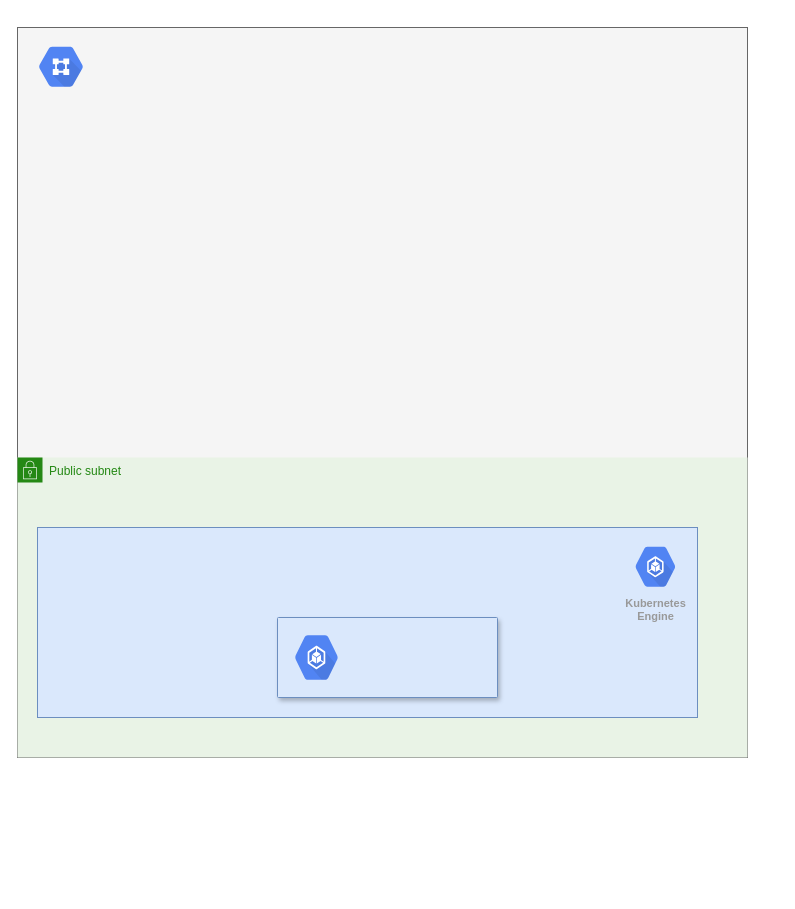
This 795x909 diagram has some shape labels left out. The centre of each missing label's shape, as x and y in pixels:
Master Control Plane It's also the only worker node: point (316, 657)
Virtual Private Cloud: point (60, 66)
